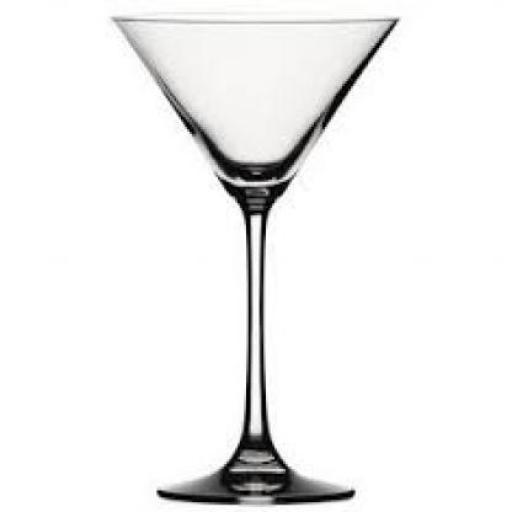glass: (106, 14, 397, 503)
